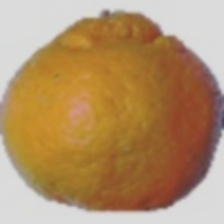tangerine: (12, 23, 186, 215)
